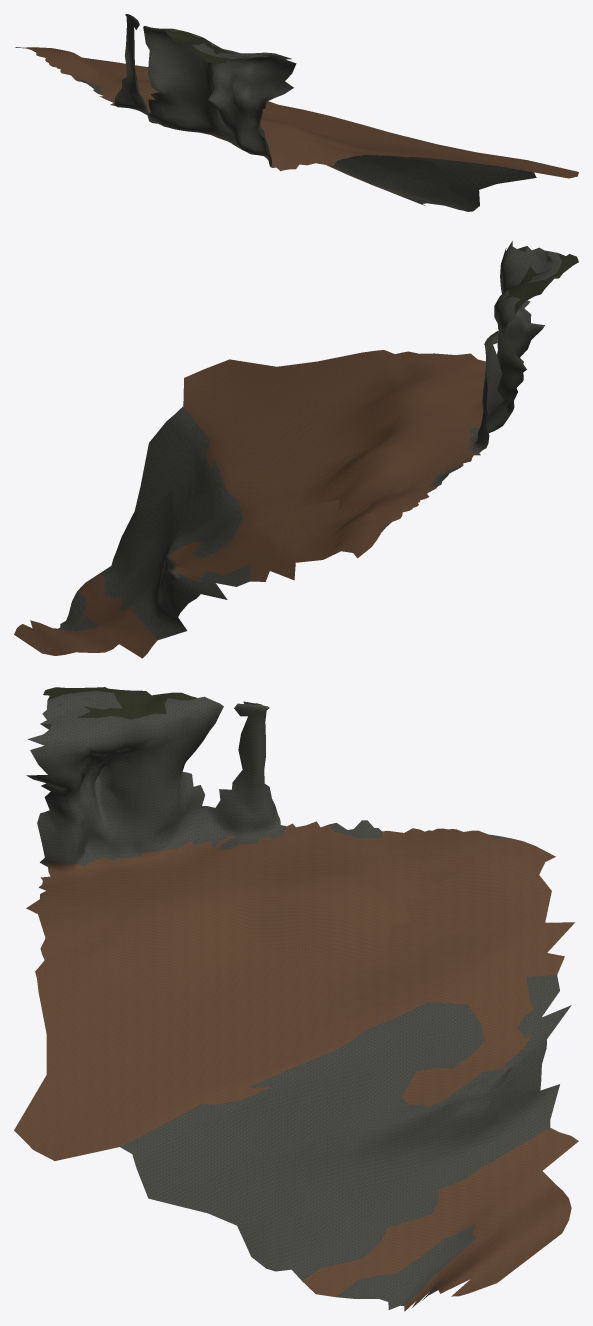
The model's file is G3_Myrtana_Landscape_Cell_179.obj.
3 renders of one model, top to bottom at view 1: azimuth 30°, elevation 25°; view 2: azimuth 150°, elevation 25°; view 3: azimuth 270°, elevation 25°, orthographic. The views are drawn at different scales.
Visible parts, largest first — view 1: G3_Myrtana_Landscape_Cell_179_1, G3_Myrtana_Landscape_Cell_179_4, G3_Myrtana_Landscape_Cell_179_0, G3_Myrtana_Landscape_Cell_179_3, G3_Myrtana_Landscape_Cell_179_2; view 2: G3_Myrtana_Landscape_Cell_179_4, G3_Myrtana_Landscape_Cell_179_1, G3_Myrtana_Landscape_Cell_179_3, G3_Myrtana_Landscape_Cell_179_2, G3_Myrtana_Landscape_Cell_179_0; view 3: G3_Myrtana_Landscape_Cell_179_4, G3_Myrtana_Landscape_Cell_179_1, G3_Myrtana_Landscape_Cell_179_3, G3_Myrtana_Landscape_Cell_179_2, G3_Myrtana_Landscape_Cell_179_0.
Boxes of the visible parts, bbox=[...] form: G3_Myrtana_Landscape_Cell_179_1: bbox=[80, 14, 536, 211]; G3_Myrtana_Landscape_Cell_179_4: bbox=[15, 47, 578, 210]; G3_Myrtana_Landscape_Cell_179_0: bbox=[129, 14, 270, 63]; G3_Myrtana_Landscape_Cell_179_3: bbox=[29, 49, 458, 209]; G3_Myrtana_Landscape_Cell_179_2: bbox=[128, 14, 291, 128]; G3_Myrtana_Landscape_Cell_179_4: bbox=[14, 350, 485, 658]; G3_Myrtana_Landscape_Cell_179_1: bbox=[66, 247, 554, 630]; G3_Myrtana_Landscape_Cell_179_3: bbox=[55, 358, 523, 640]; G3_Myrtana_Landscape_Cell_179_2: bbox=[487, 241, 561, 413]; G3_Myrtana_Landscape_Cell_179_0: bbox=[488, 246, 578, 338]; G3_Myrtana_Landscape_Cell_179_4: bbox=[14, 821, 578, 1311]; G3_Myrtana_Landscape_Cell_179_1: bbox=[26, 694, 571, 1301]; G3_Myrtana_Landscape_Cell_179_3: bbox=[40, 823, 559, 1309]; G3_Myrtana_Landscape_Cell_179_2: bbox=[27, 690, 262, 834]; G3_Myrtana_Landscape_Cell_179_0: bbox=[40, 687, 260, 729].
Bounding box in the file's own units: 169 × 141 × 176.
5 materials, 5 textured.
